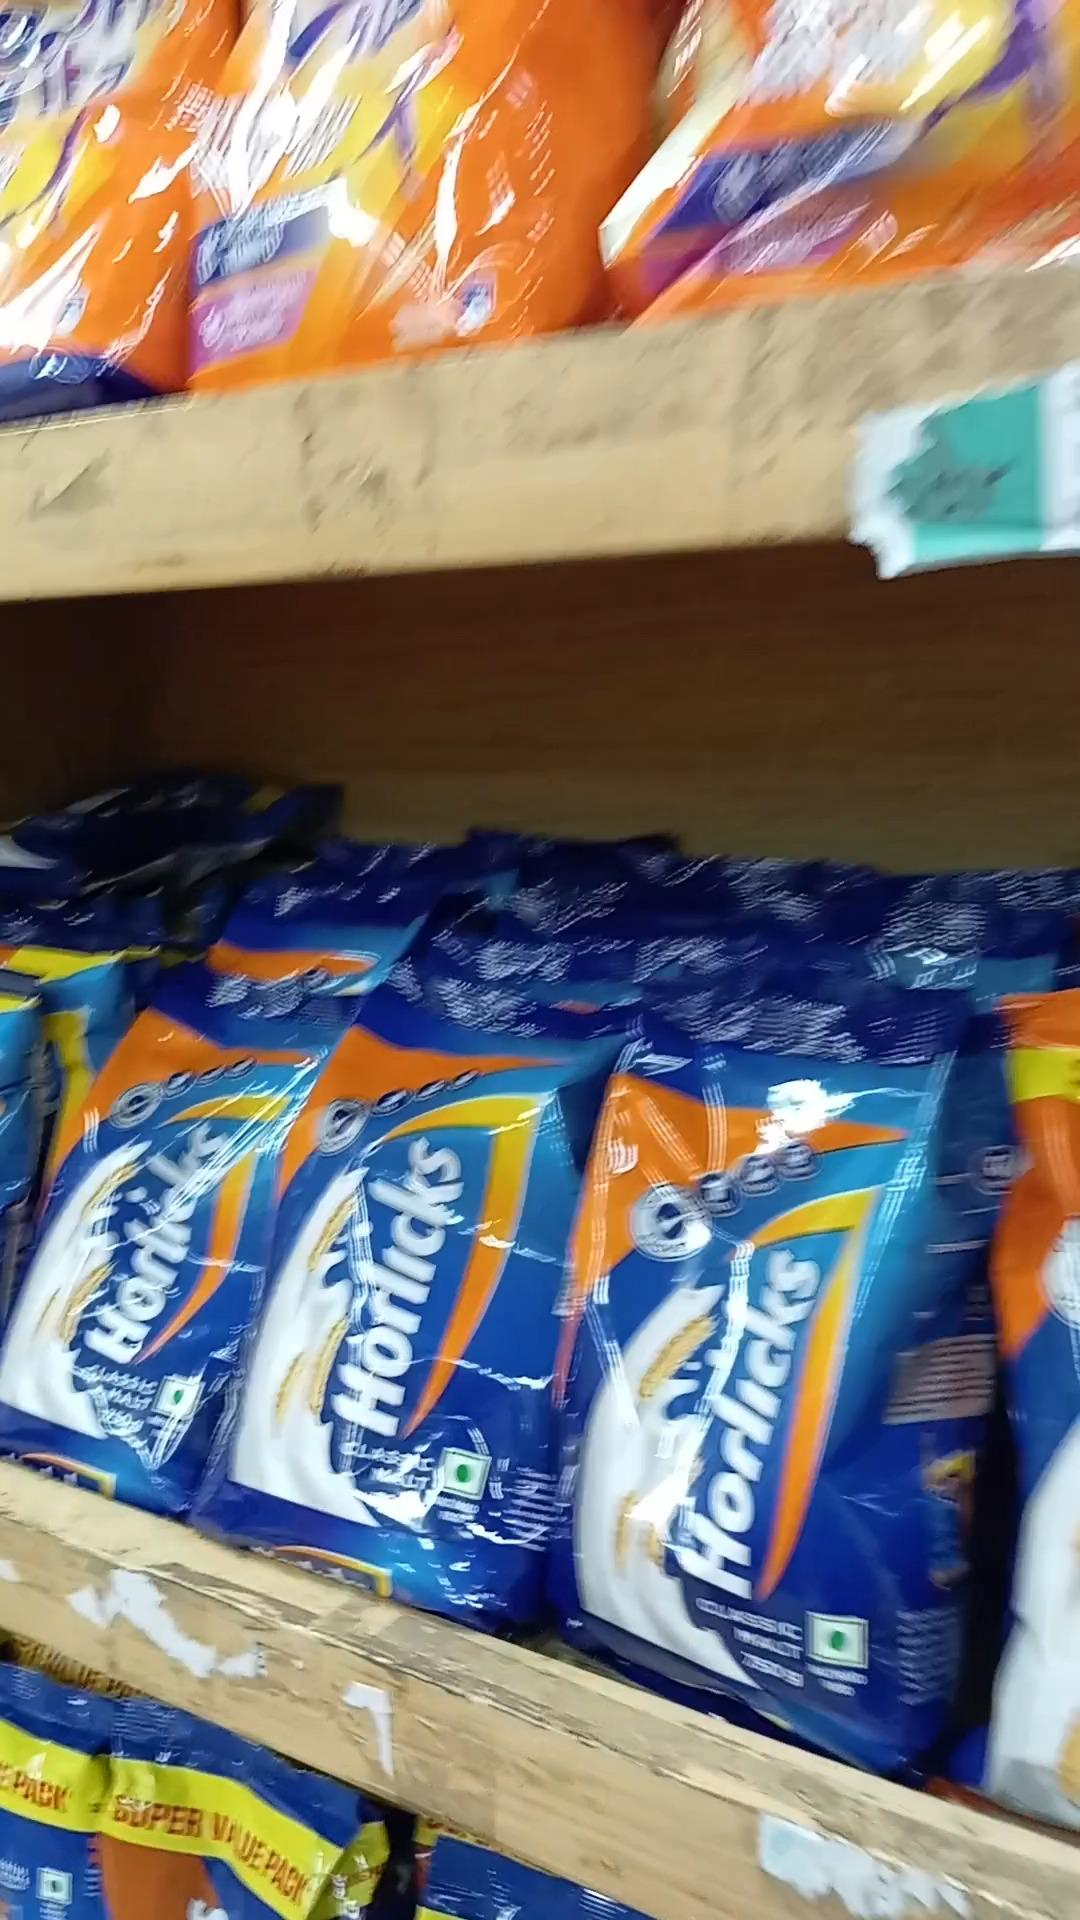HORLICK_CLASSIC_MALT_750_G_POUCH: (575, 975, 961, 1730), (225, 1050, 535, 1582)
